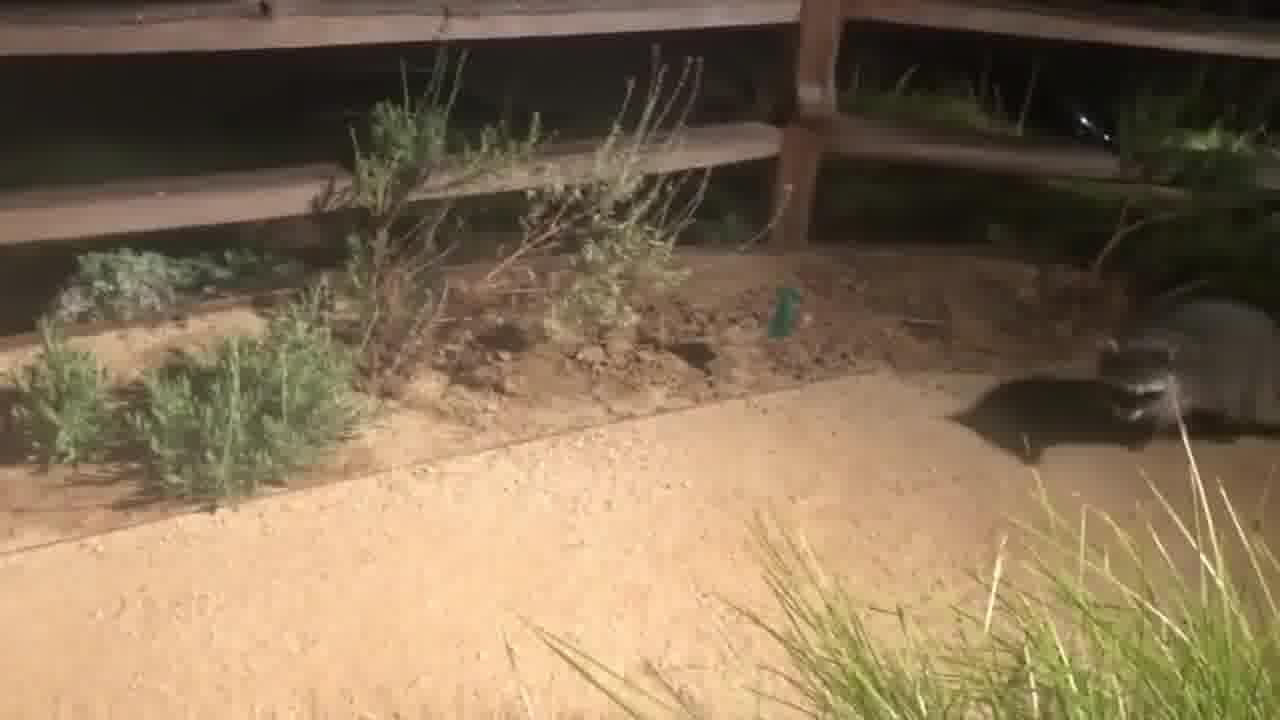raccoon: (1076, 277, 1280, 448)
